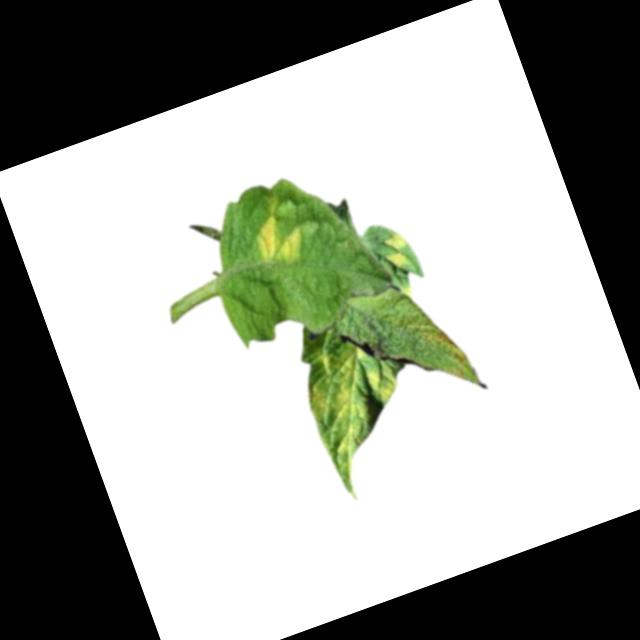Leaf_Mold: (288, 331, 426, 493), (249, 208, 312, 274), (376, 227, 418, 276)
